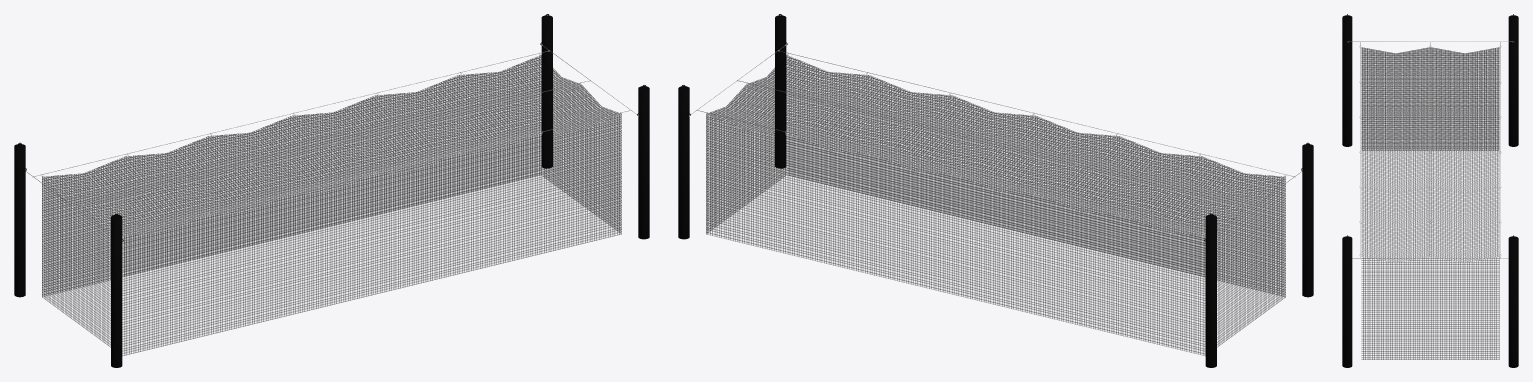
The model's file is Outdoor Pro 55.glb.
3 views of the same model, side by side, from view 1: azimuth 30°, elevation 25°; view 2: azimuth 150°, elevation 25°; view 3: azimuth 270°, elevation 25° (orthographic). The views are drawn at different scales.
Parts seen in each view (by area): view 1: Playground.011, Frame.001; view 2: Playground.011, Frame.001; view 3: Playground.011, Frame.001.
Boxes of the visible parts, x1=… form: Playground.011: x1=42, y1=55, x2=621, y2=355; Frame.001: x1=14, y1=14, x2=649, y2=367; Playground.011: x1=706, y1=55, x2=1285, y2=355; Frame.001: x1=678, y1=14, x2=1313, y2=367; Playground.011: x1=1361, y1=47, x2=1499, y2=359; Frame.001: x1=1342, y1=14, x2=1518, y2=367.
Bounding box in the file's own units: 16.98 × 4.59 × 5.61.
4 materials, 1 textured.
